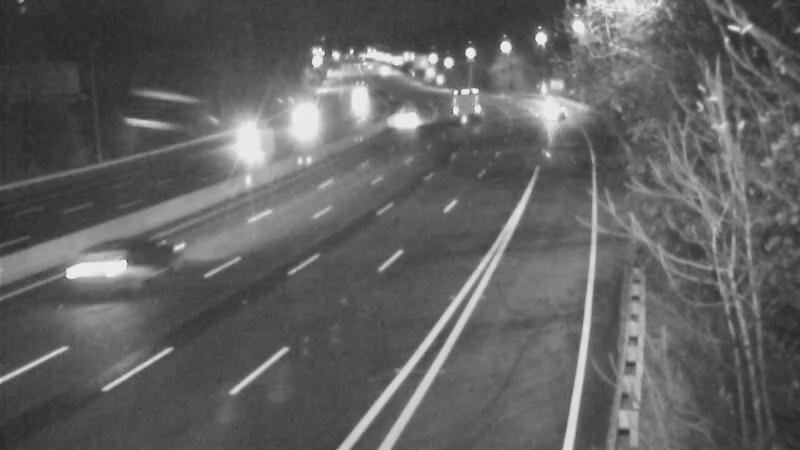vehicle: (57, 230, 137, 310), (522, 81, 572, 131), (440, 74, 490, 124), (379, 90, 429, 140), (219, 110, 269, 160), (283, 102, 333, 152), (336, 73, 386, 123)
